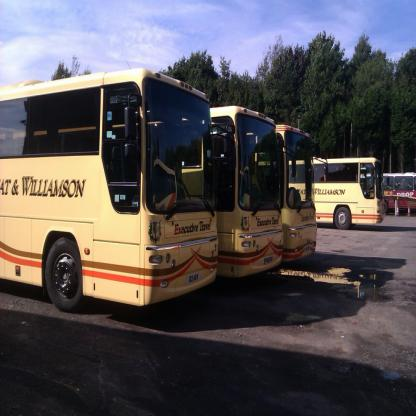Bus: (0, 66, 416, 313)
